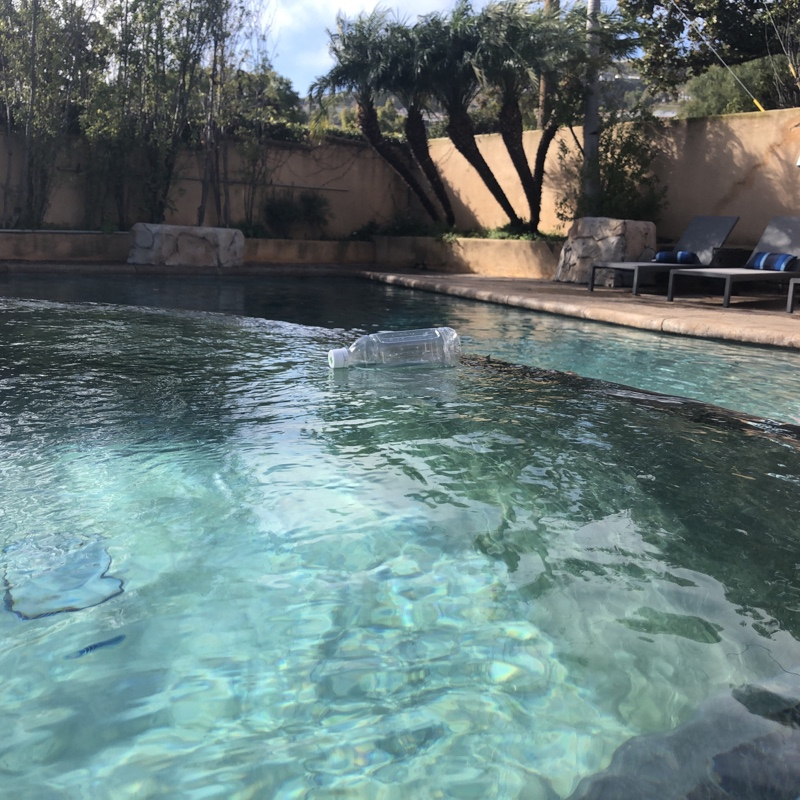Plastic Bottle: (325, 324, 466, 374)
